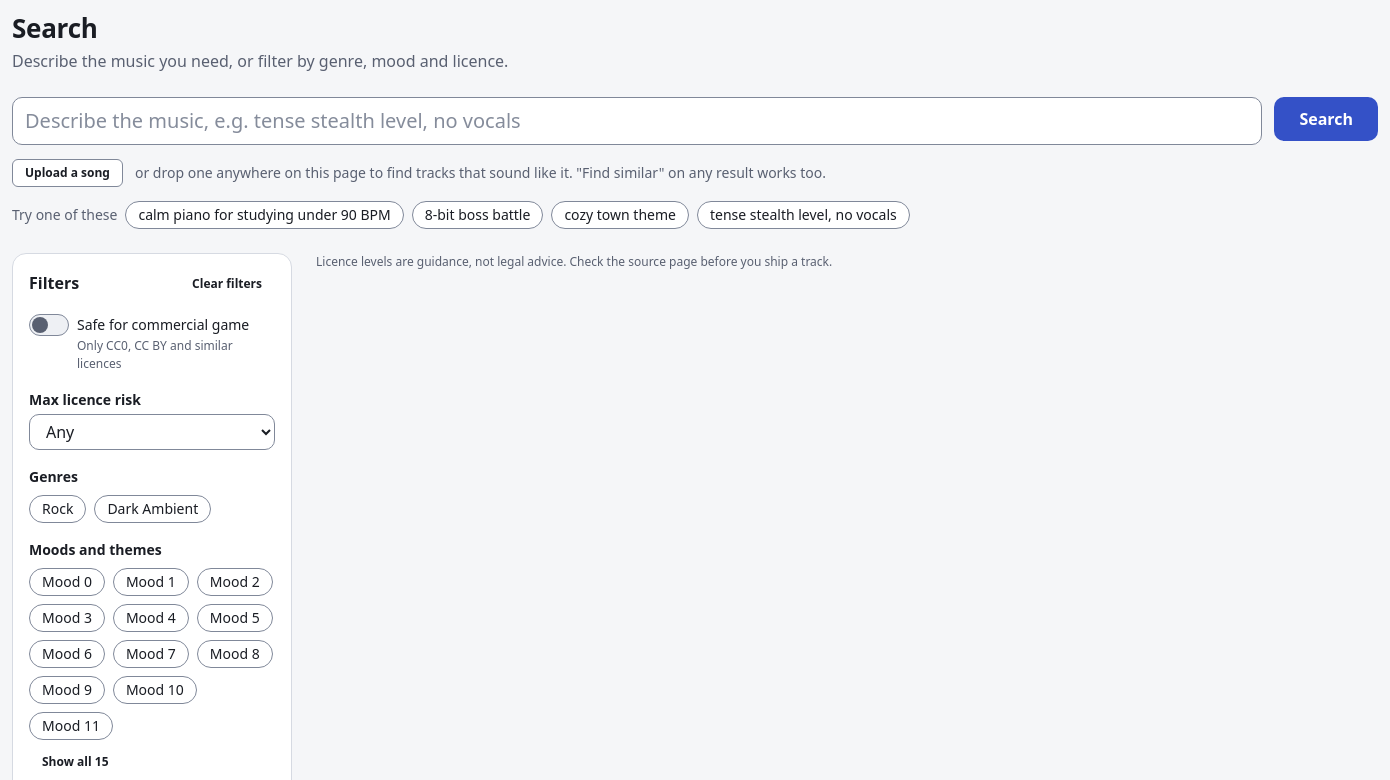
Test: Search page: query › sends the text with the default paging and shows the results
Type "tense stealth level" into the field named "Describe the music you need" at (637, 120), box [12,96,1262,144]
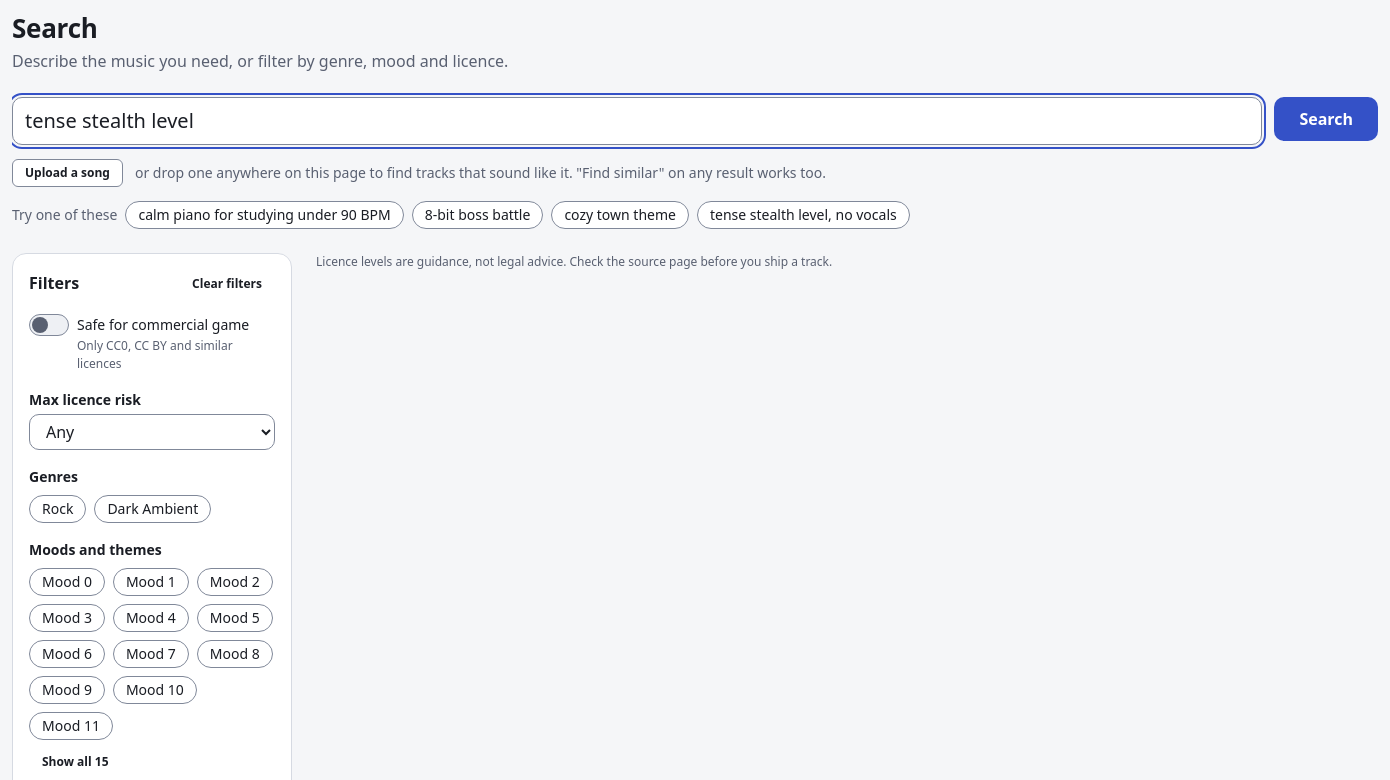
Click the button "Search" at (1326, 118), box [1274,96,1378,140]
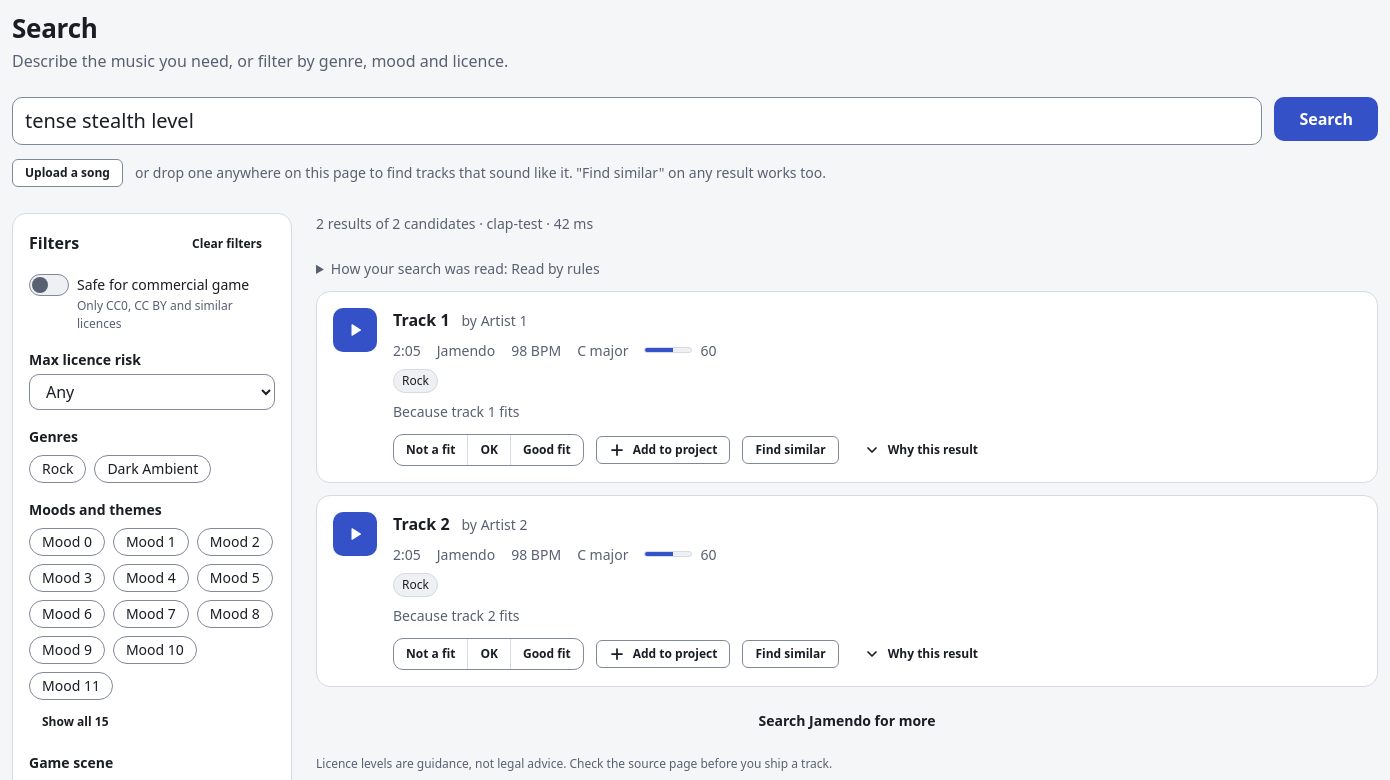
Now the button "Track 1" is shown, box [393,308,450,332]
Now the button "Track 2" is shown, box [393,512,450,536]
Now the text "2 results of 2 candidates · clap-test · 42 ms" is shown, box [316,212,593,234]
